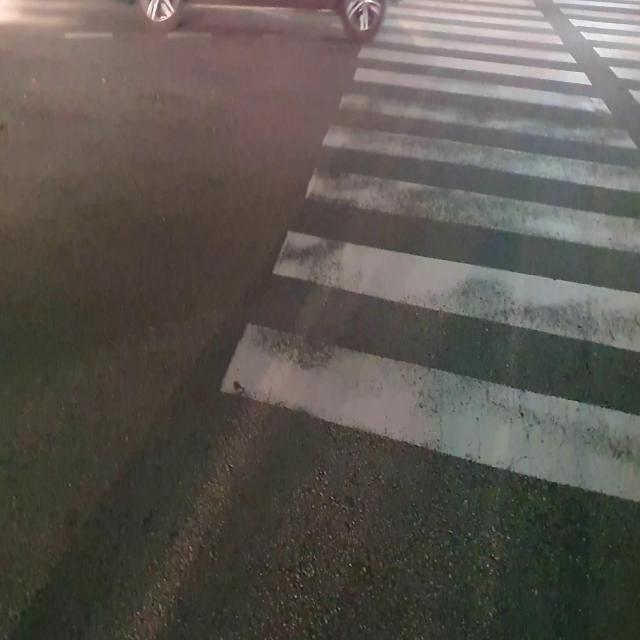crosswalk: (212, 1, 640, 509)
